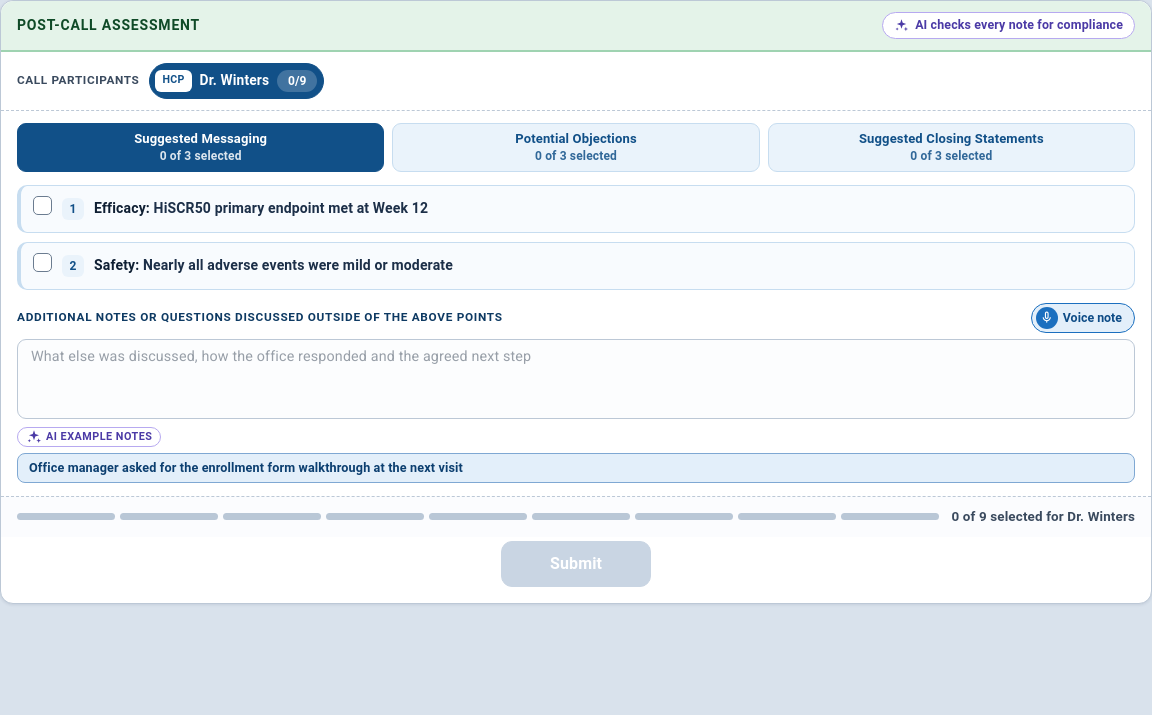
Test: Post-Call Assessment › a voice note without browser support explains why
Click the checkbox named "Raised on the call: HiSCR50 primary endpoint met at Week 12". click: (42, 209)
box: [33,196,52,222]
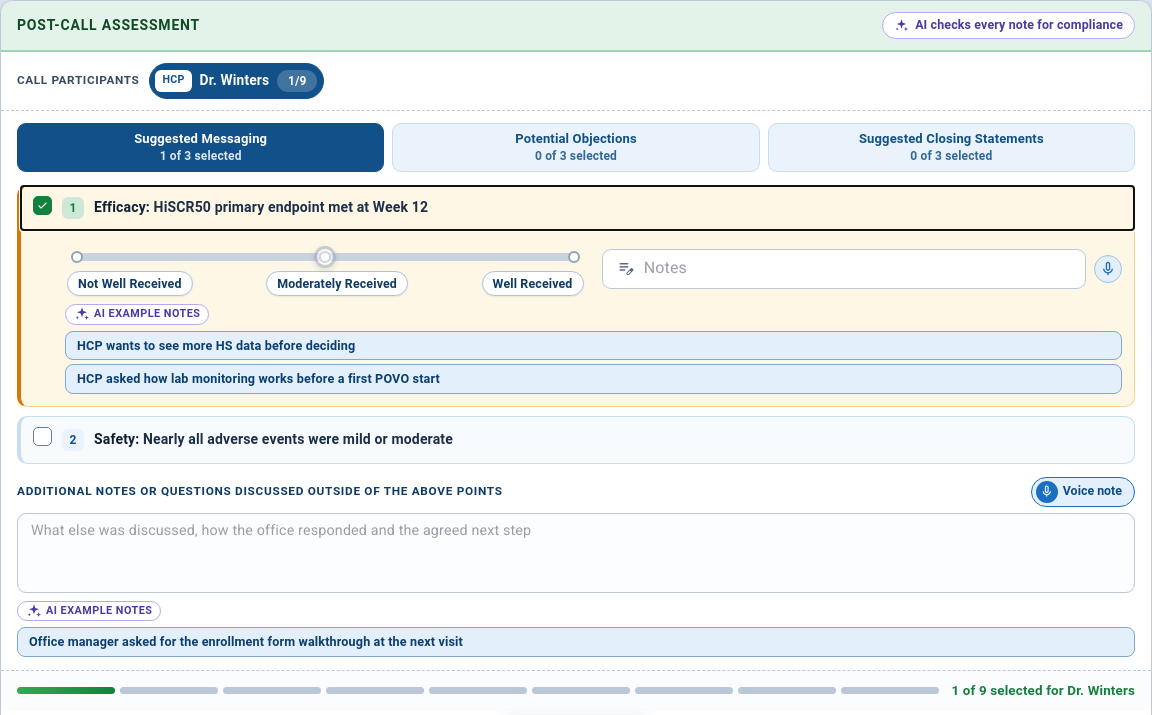
Check: the button named "Microsoft Edge or Google Chrome" is shown, box [1094,255,1122,283]
